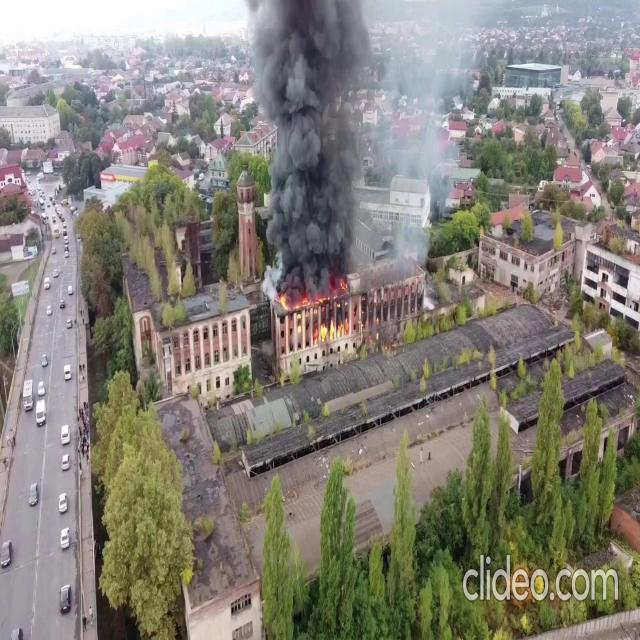Smoke: (245, 0, 394, 298)
